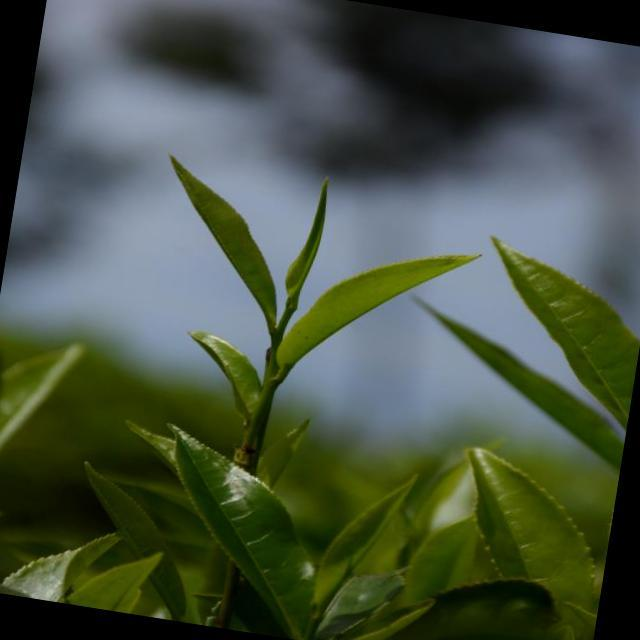Stem: (272, 329, 283, 342)
